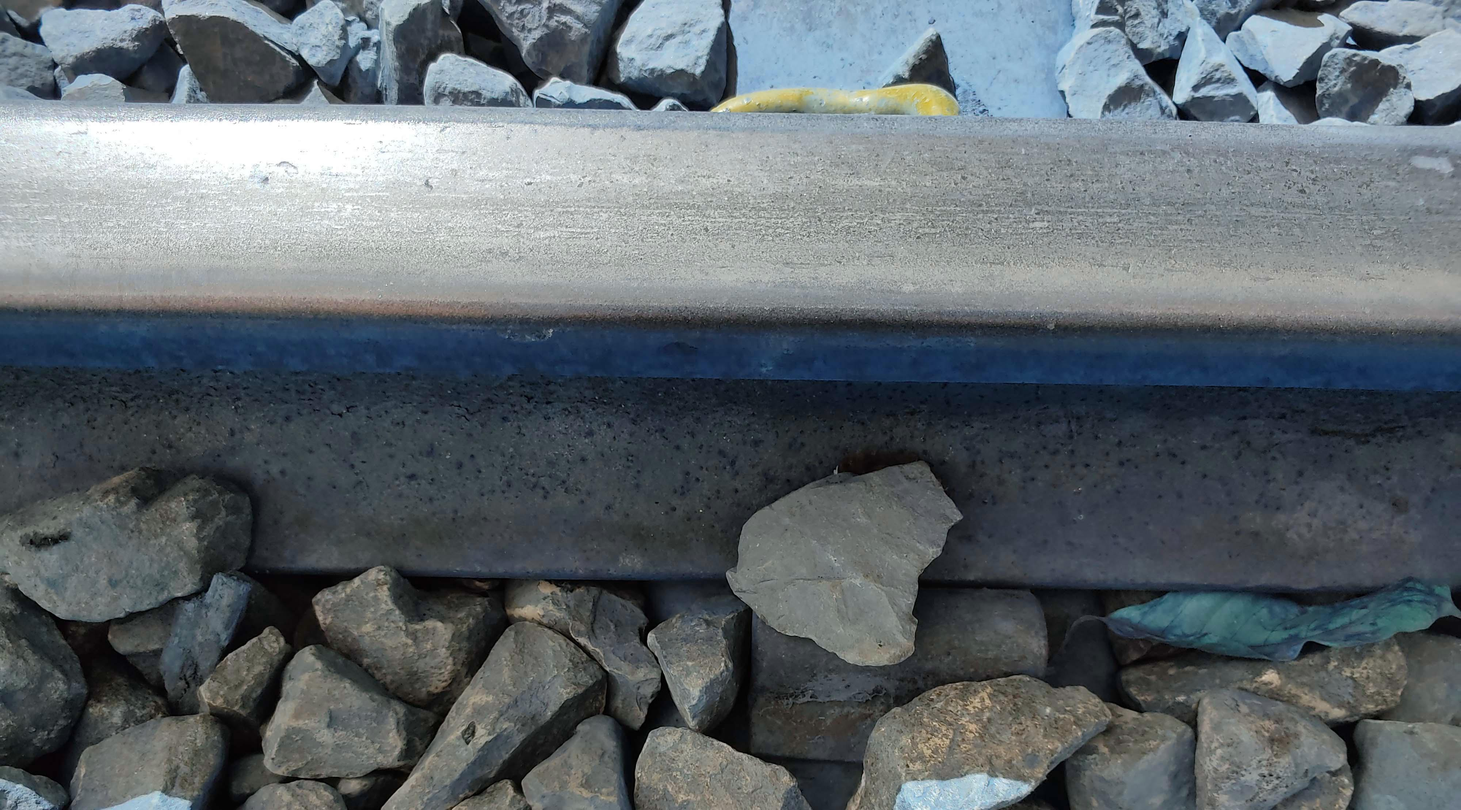Poor contact: (693, 55, 966, 124)
loss: (753, 565, 1065, 752)
